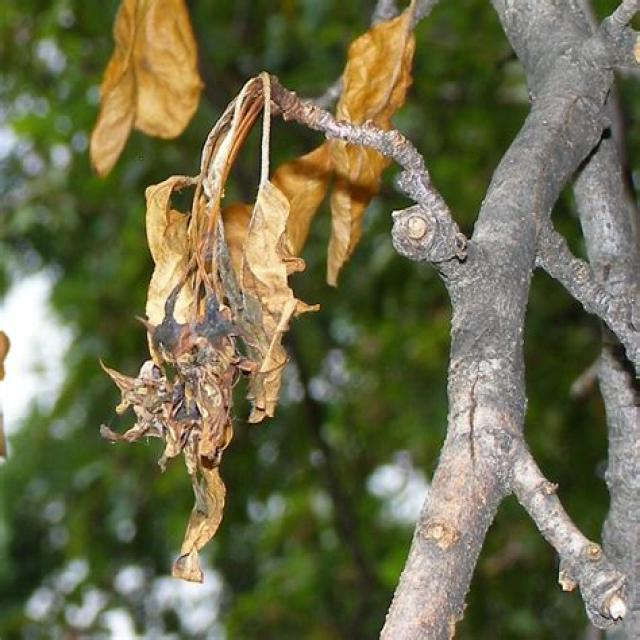blight: (139, 238, 271, 488)
